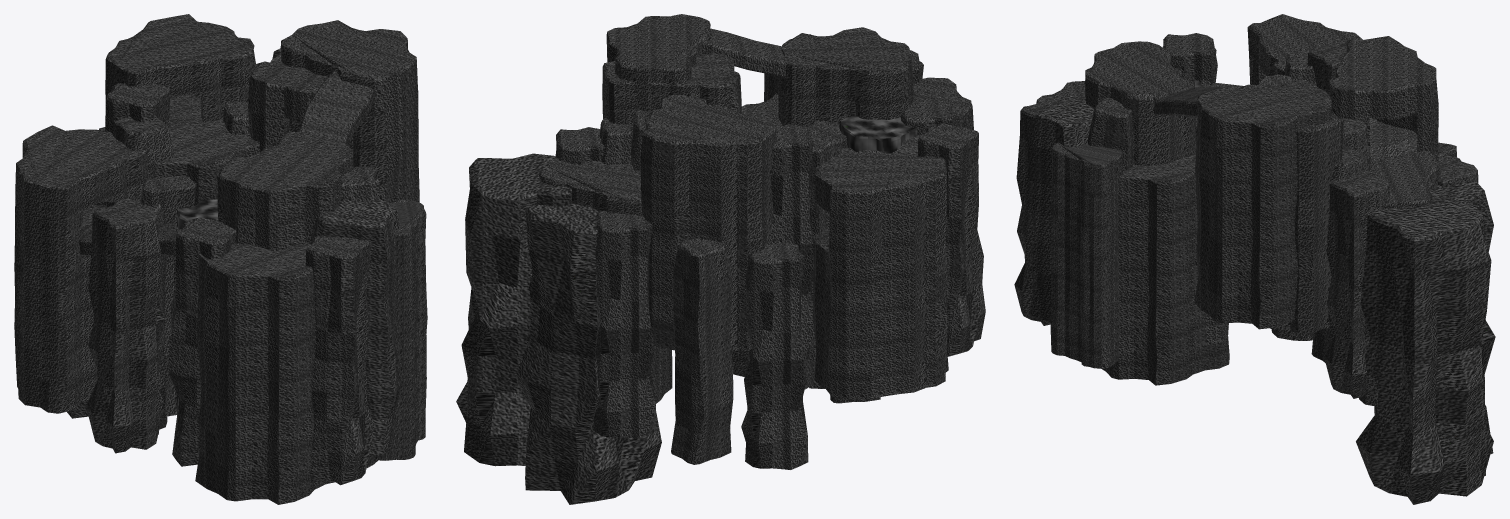
File: Dragonfly_02.fbx
3 views of the same model, side by side, from view 1: azimuth 30°, elevation 25°; view 2: azimuth 150°, elevation 25°; view 3: azimuth 270°, elevation 25° (orthographic). The views are drawn at different scales.
Visible parts, largest first — view 1: Large_1.004, Large_Cave.002, Small_1.013, Small_1.011, Large_1.002, Large_1.003, Large_Cave, Small_2.006, Large_1.007, Small_1.002, Large_1, Large_Cave.001 (+9 smaller); view 2: Large_Cave.002, Small_1.010, Large_Cave, Small_1.008, Small_1, Small_2.001, Small_1.009, Large_1.003, Small_1.013, Large_1.002, Small_1.005, Large_1.001 (+11 smaller); view 3: Small_1.008, Large_1.002, Large_1.006, Large_1.007, Large_Cave, Small_1.007, Large_1.003, Large_Cave.001, Small_2.006, Large_Cave.002, Small_1.011, Large_1.001 (+9 smaller).
Part boxes in pixels (x1,y1,x2,y2): Large_1.004: [195, 243, 335, 504]; Large_Cave.002: [14, 125, 147, 413]; Small_1.013: [86, 199, 164, 453]; Small_1.011: [305, 236, 373, 485]; Large_1.002: [280, 20, 419, 202]; Large_1.003: [217, 132, 353, 250]; Large_Cave: [105, 14, 256, 125]; Small_2.006: [310, 200, 402, 455]; Large_1.007: [373, 200, 427, 460]; Small_1.002: [168, 217, 236, 466]; Large_1: [153, 117, 259, 205]; Large_Cave.001: [248, 54, 353, 151]; Large_Cave.002: [812, 147, 948, 399]; Small_1.010: [515, 202, 661, 504]; Large_Cave: [640, 95, 777, 350]; Small_1.008: [456, 153, 572, 466]; Small_1: [741, 242, 808, 469]; Small_2.001: [671, 238, 733, 464]; Small_1.009: [593, 210, 656, 438]; Large_1.003: [778, 27, 914, 127]; Small_1.013: [917, 123, 985, 356]; Large_1.002: [606, 14, 712, 111]; Small_1.005: [768, 124, 815, 352]; Large_1.001: [539, 157, 672, 403]; Small_1.008: [1356, 188, 1495, 504]; Large_1.002: [1194, 79, 1331, 329]; Large_1.006: [1101, 154, 1229, 385]; Large_1.007: [1050, 142, 1123, 368]; Large_Cave: [1329, 36, 1438, 160]; Small_1.007: [1324, 170, 1389, 398]; Large_1.003: [1085, 41, 1196, 165]; Large_Cave.001: [1238, 74, 1343, 333]; Small_2.006: [1029, 96, 1094, 322]; Large_Cave.002: [1247, 14, 1362, 84]; Small_1.011: [1014, 96, 1061, 325]; Large_1.001: [1359, 150, 1440, 406].
Bounding box in the file's own units: 6344 × 5448 × 6512.
Materials: 32 (32 with a texture image).
